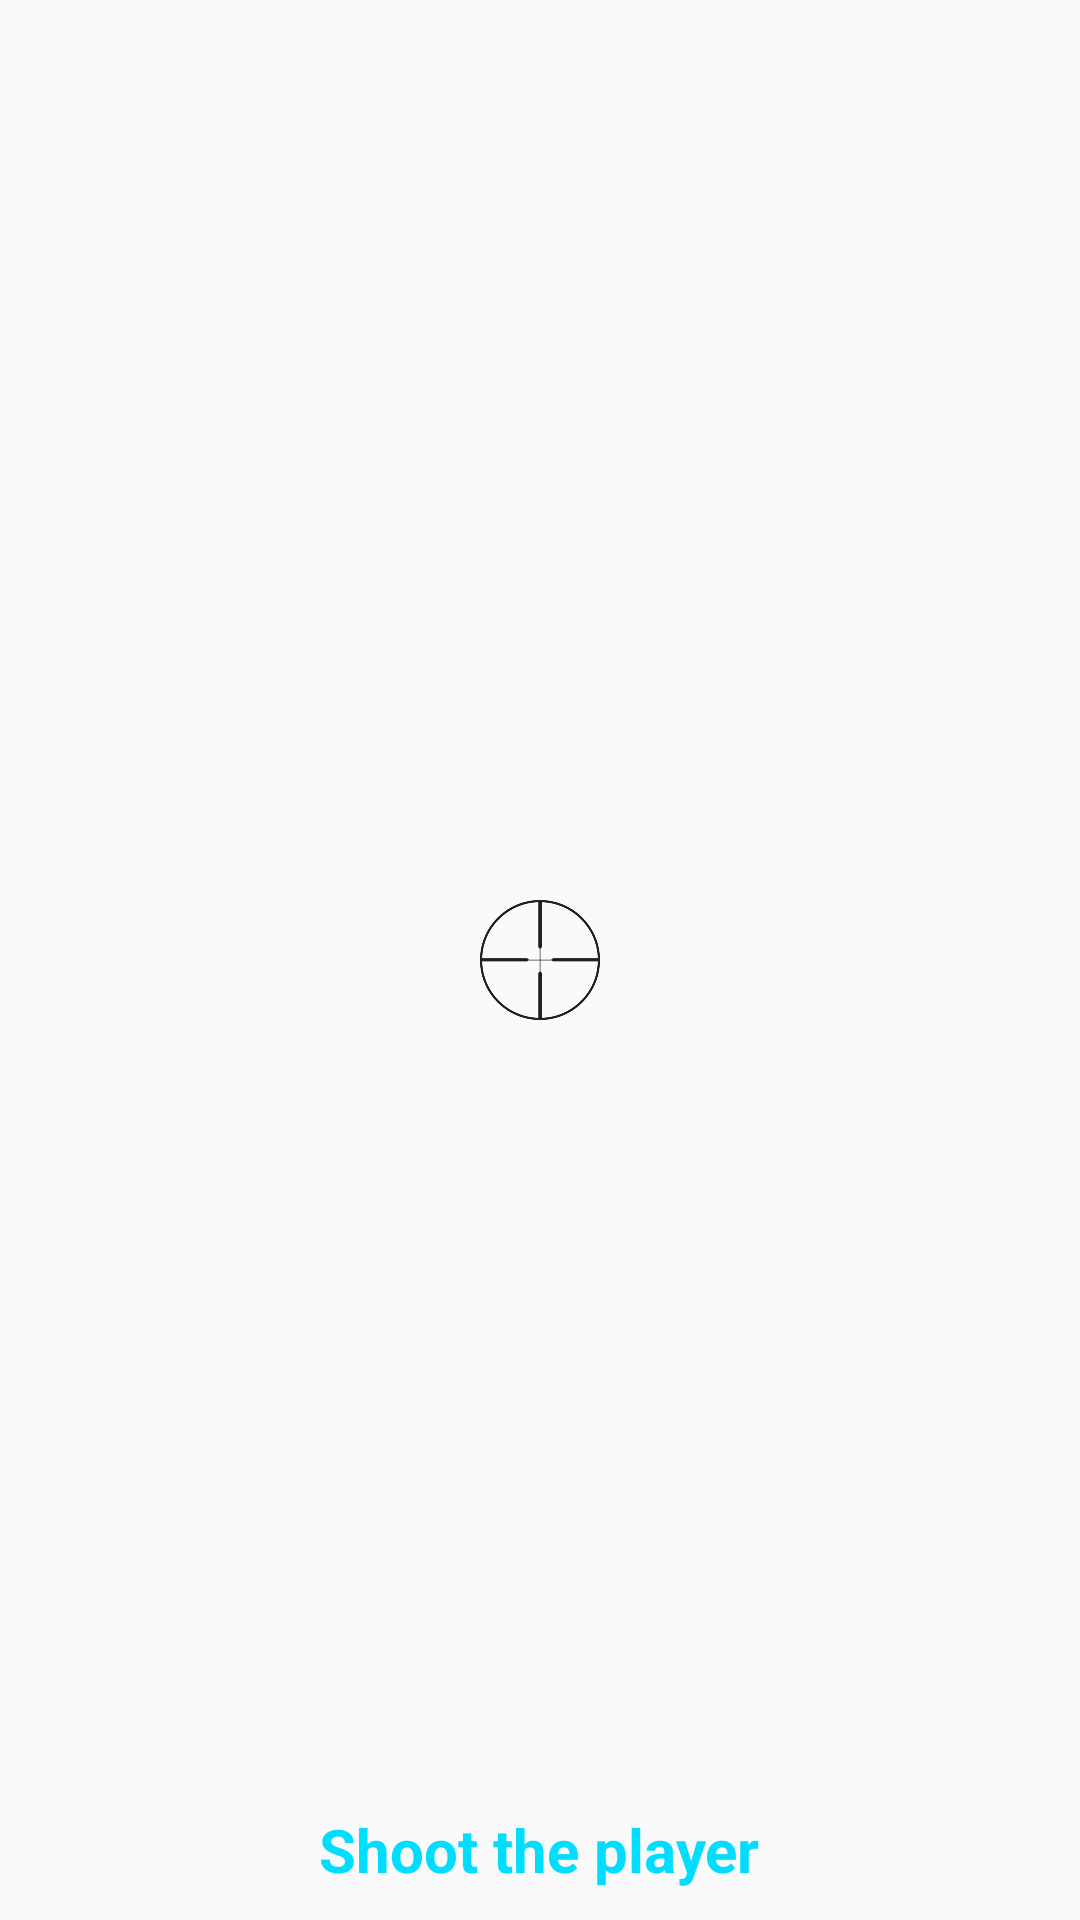

Icons on this 1080px×1920px Android screen, each with its box as [x1, y1, x2, y2]:
reticle: [480, 900, 600, 1020]
